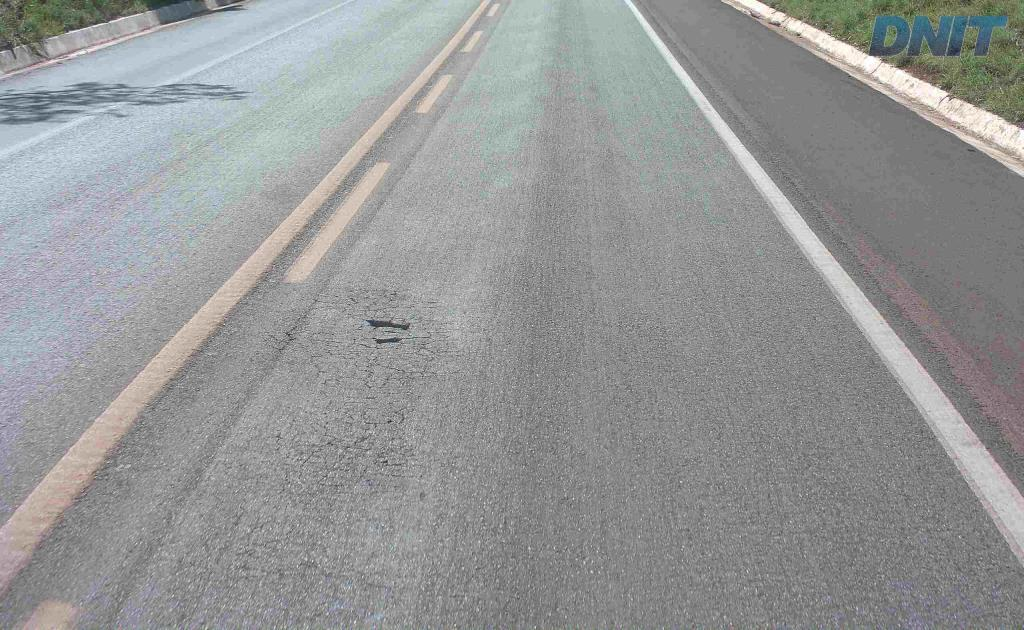pothole: (365, 316, 412, 332), (370, 334, 403, 346)
